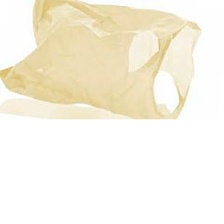plastic_bag: (0, 0, 207, 122)
